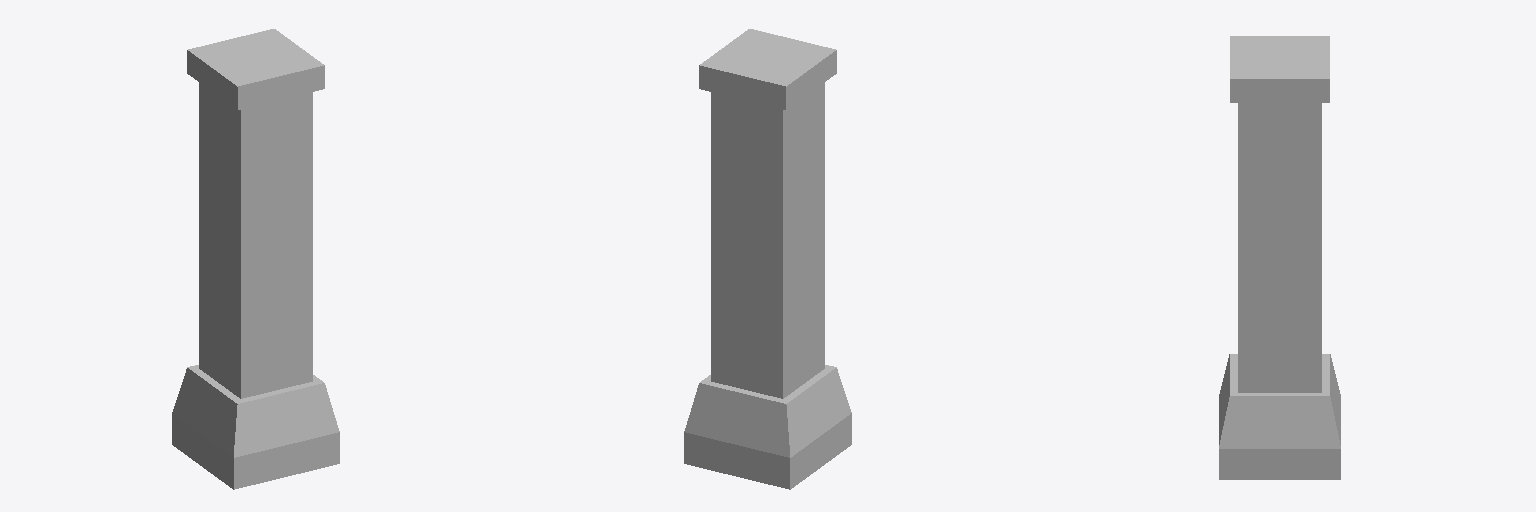
File: bridge_pillarWide.obj
The picture shows the model from 3 angles: view 1: azimuth 30°, elevation 25°; view 2: azimuth 150°, elevation 25°; view 3: azimuth 270°, elevation 25°; orthographic projection.
Visible parts, largest first — view 1: bridge_pillarWide; view 2: bridge_pillarWide; view 3: bridge_pillarWide.
Part boxes in pixels (bbox=[...]): bridge_pillarWide: bbox=[172, 29, 339, 489]; bridge_pillarWide: bbox=[684, 29, 851, 489]; bridge_pillarWide: bbox=[1219, 36, 1340, 479].
Bounding box in the file's own units: 0.14 × 0.5 × 0.14.